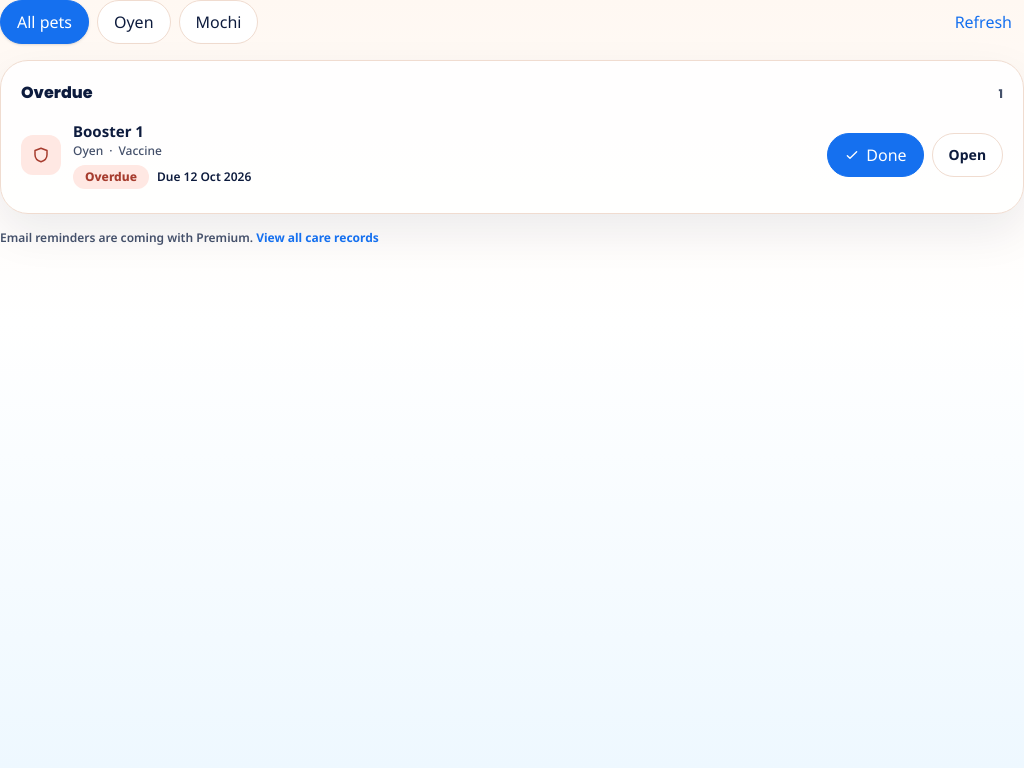
Mark as done from the planner › logs it once with Malaysia's today, shows the result and refreshes the counts
The width and height of the screenshot is (1024, 768).
Click the button with aria-label "Mark Booster 1 for Oyen as done": (875, 155) [827, 133, 924, 177]
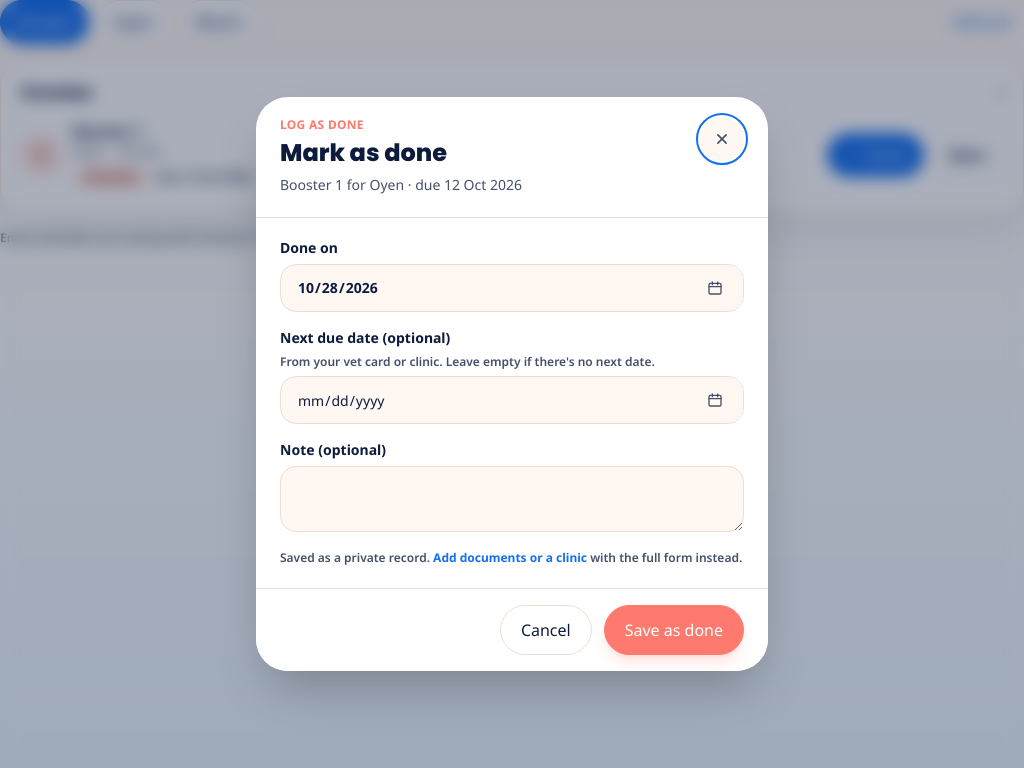
Check: the dialog "Mark as done" is shown
Click the button "Save as done": (674, 630) [604, 605, 744, 655]
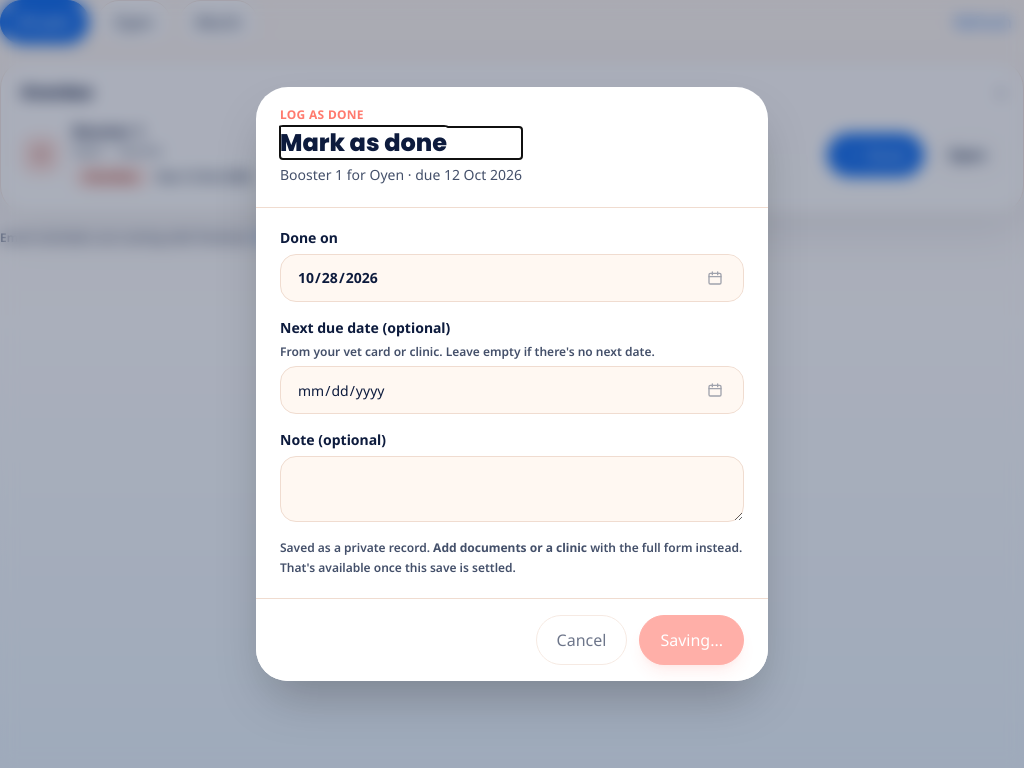
Click the button named "Save as done": (692, 640) [639, 615, 744, 665]
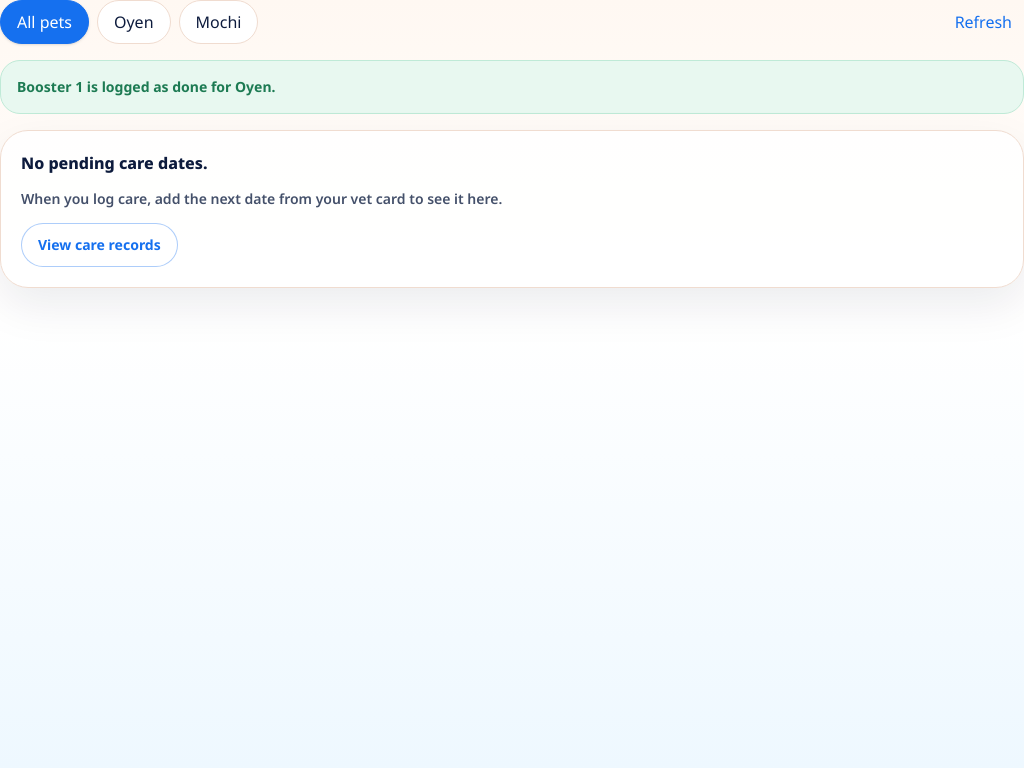
Check: the text "Booster 1 is logged as done for Oyen." is shown, box [0, 60, 1023, 114]
Check: the dialog is gone
Check: the text "No pending care dates." is shown, box [21, 152, 208, 174]
